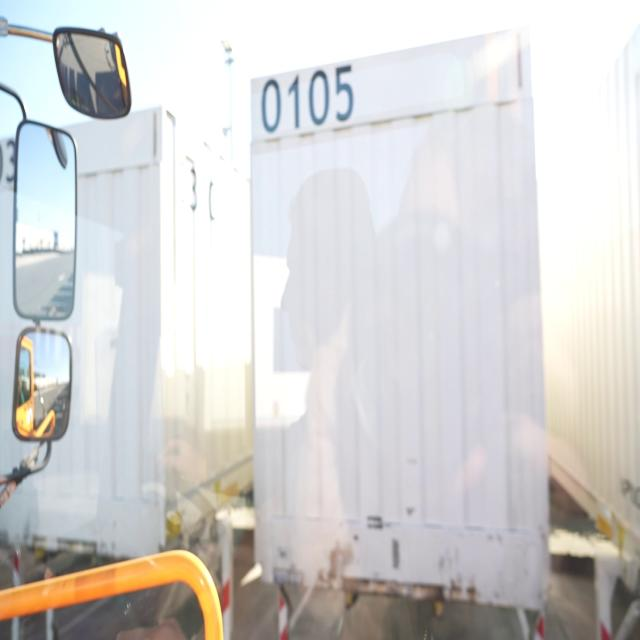Code: (258, 54, 357, 132)
